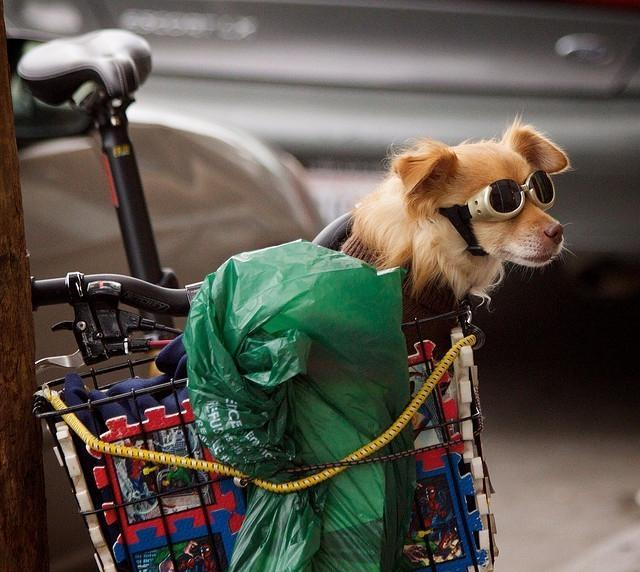bicycle: (6, 22, 475, 563)
car: (4, 0, 640, 266)
